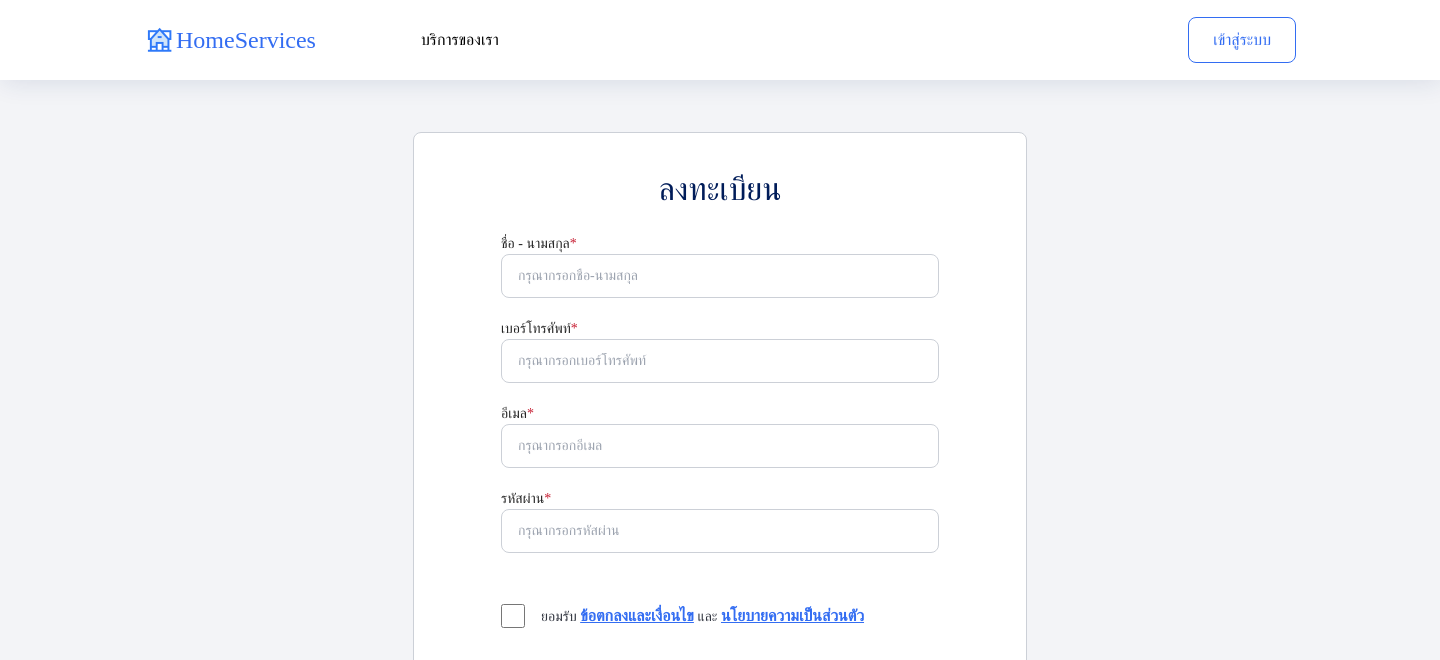
Test case: Edge case 1 - user should not be able to register because of one missing checkbox tick
Type "Chadchart Sittipun" into the field with id "name" at (720, 276), box [501,254,939,298]
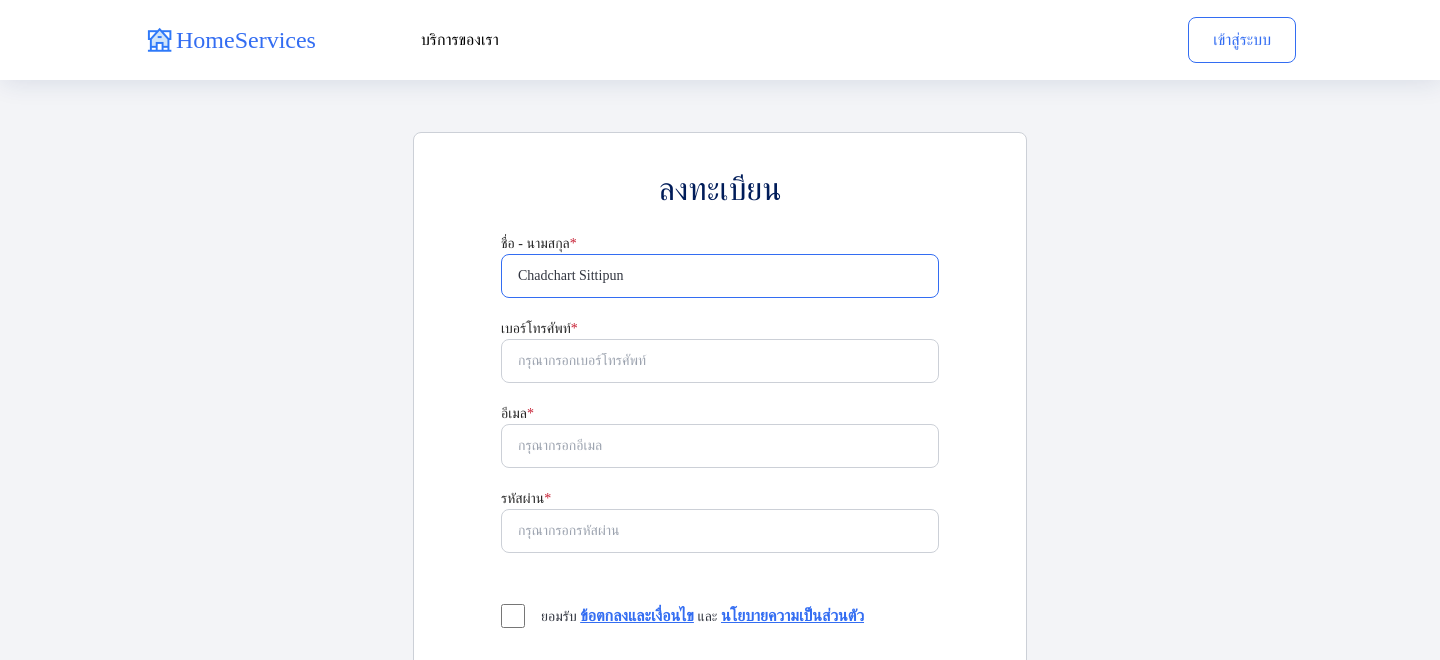
Type "0879316420" into the field with placeholder "กรุณากรอกเบอร์โทรศัพท์" at (720, 361), box [501,339,939,383]
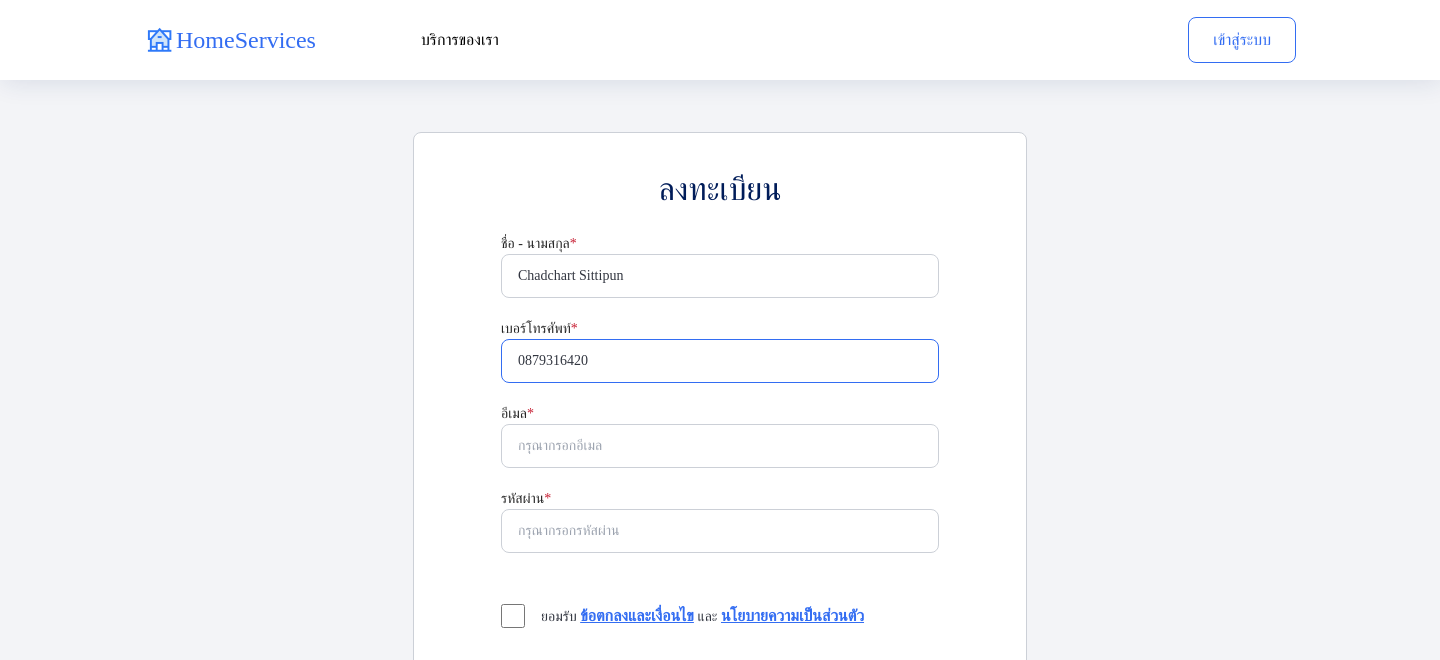
Type "Chadchart@sittipun.com" into the field with id "email" at (720, 446), box [501,424,939,468]
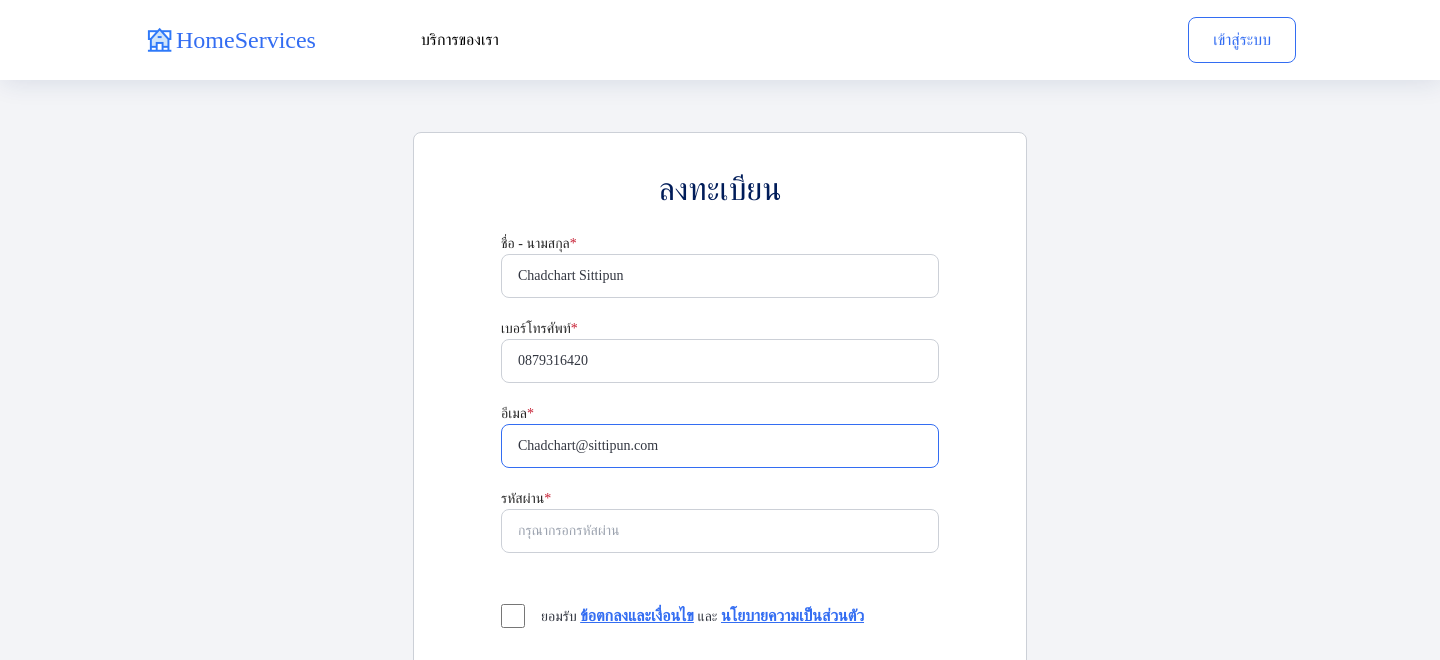
Type "Chat888Chard" into the password field labelled "รหัสผ่าน*" at (720, 531), box [501,509,939,553]
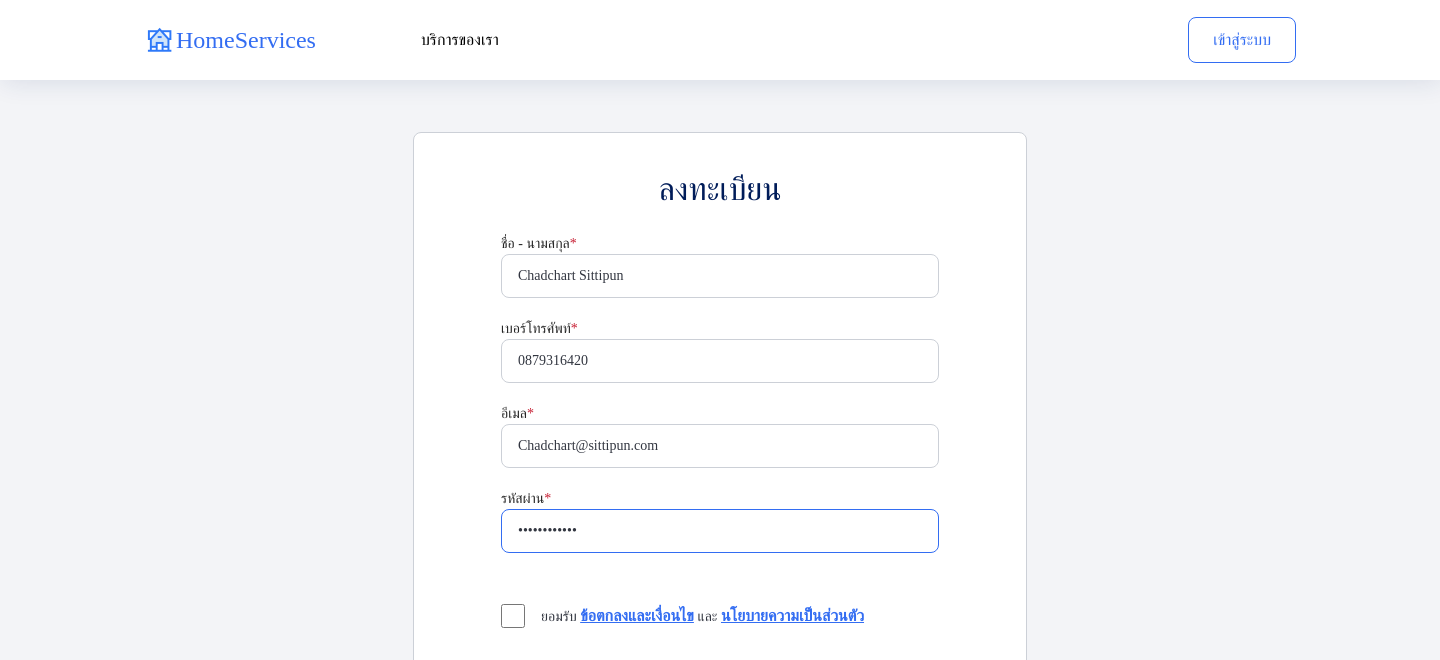
Scroll
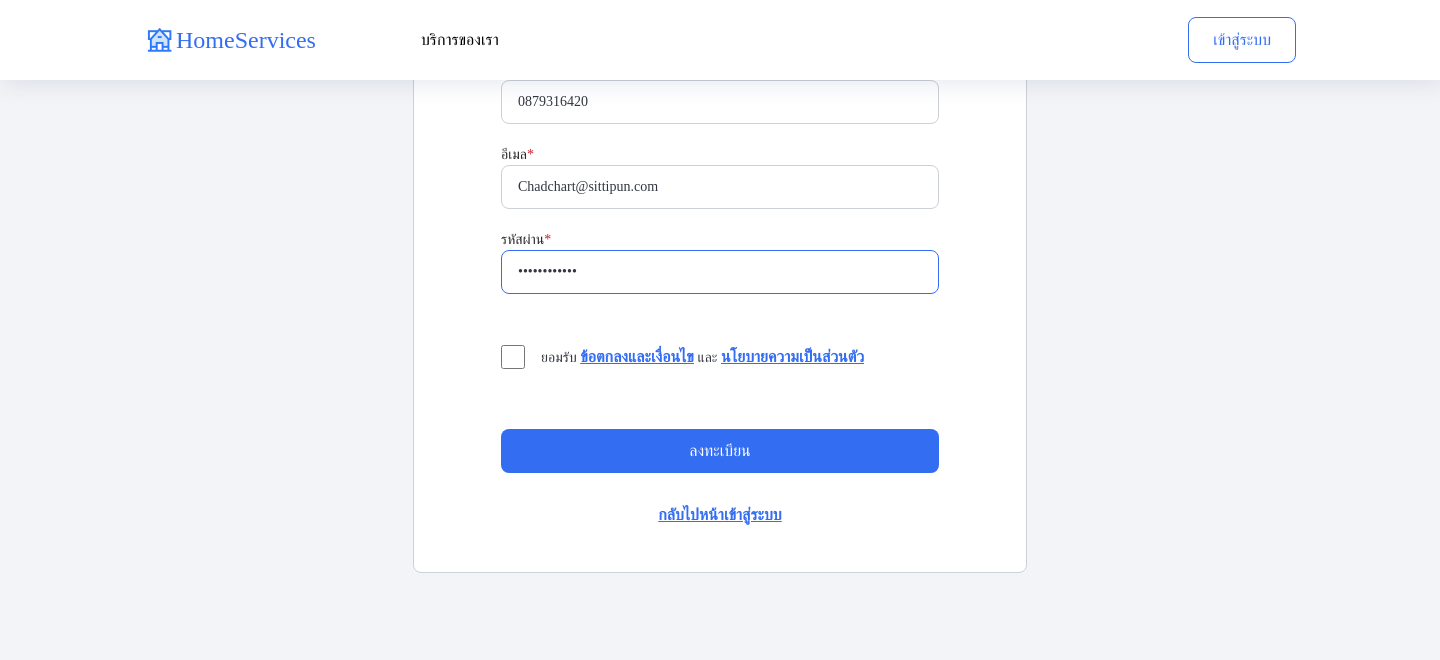
Click the button "ลงทะเบียน" at (720, 451), box [501,429,939,473]
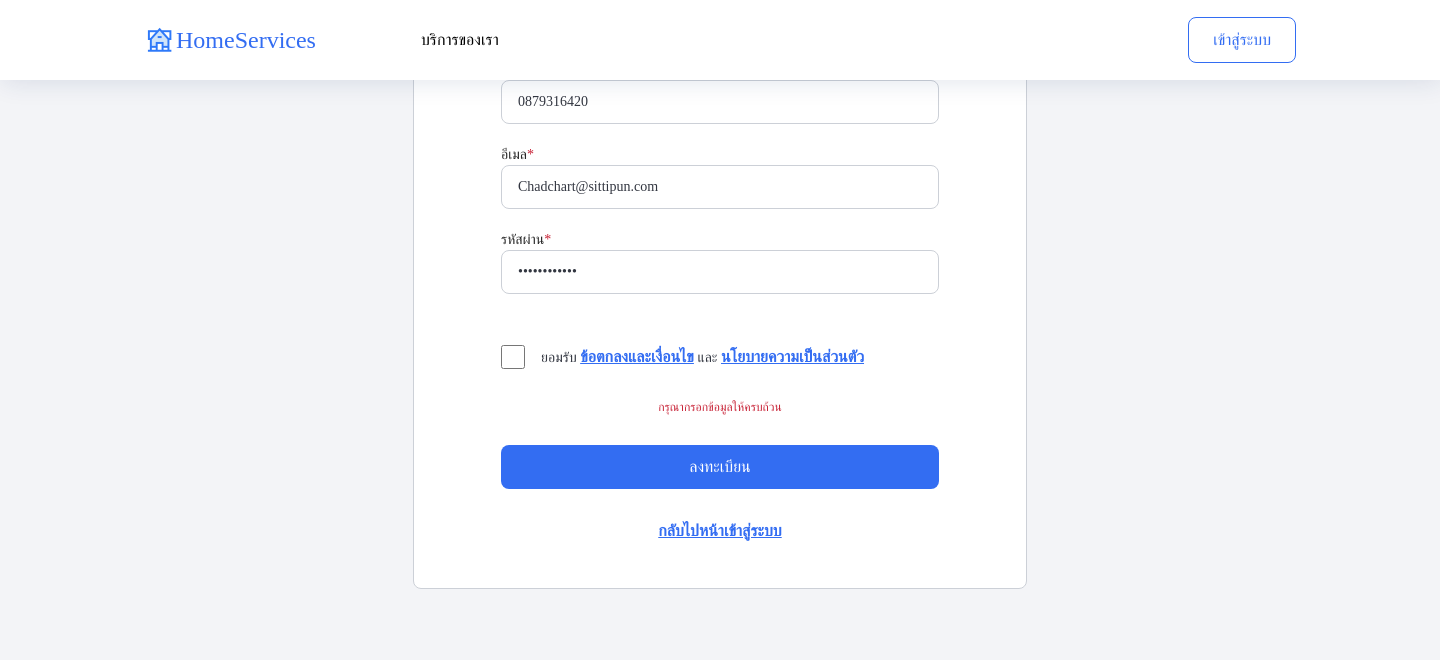
Now the text "กรุณากรอกข้อมูลให้ครบถ้วน" is shown, box [658,400,782,414]
